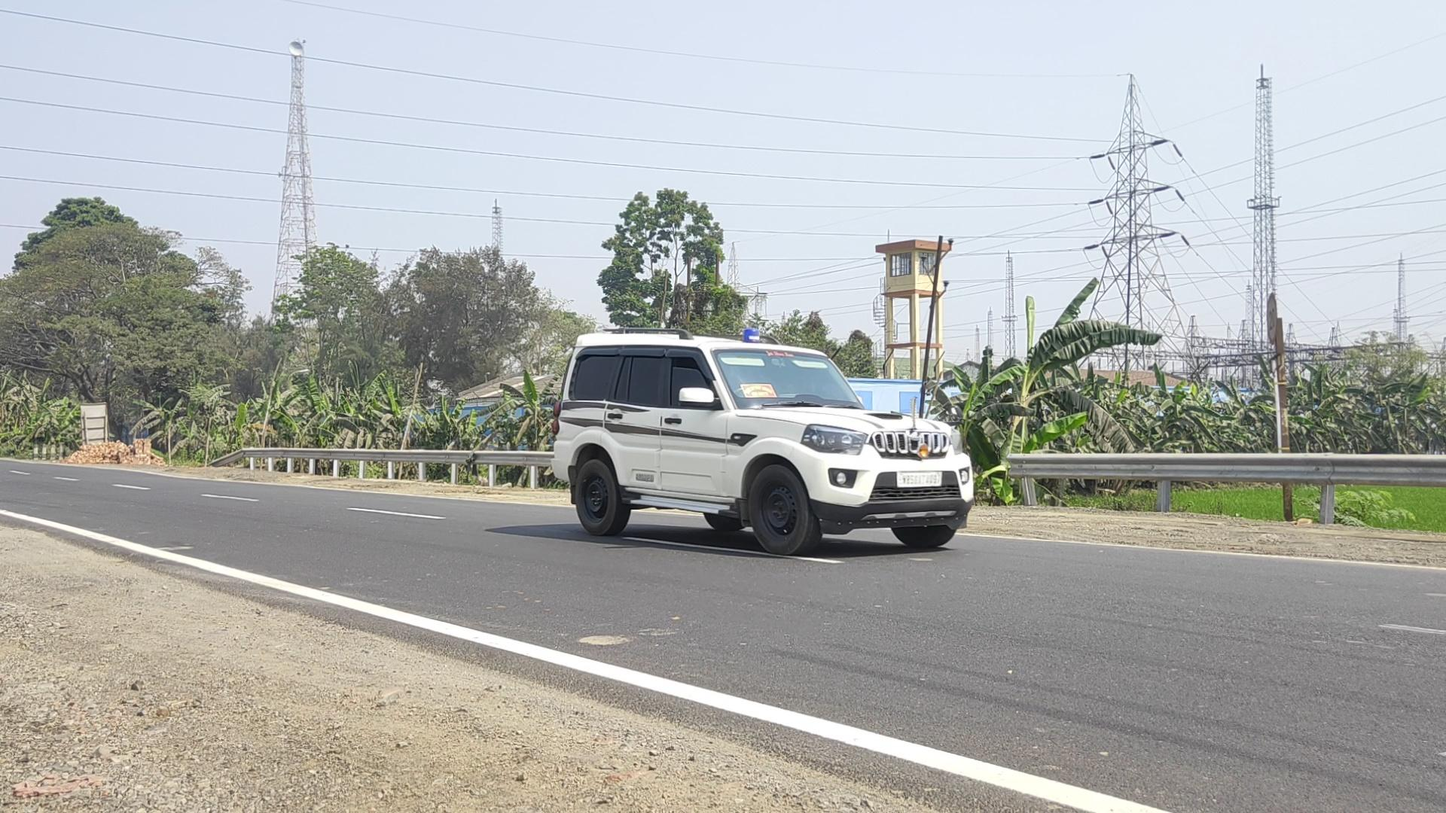car: (553, 327, 975, 556)
